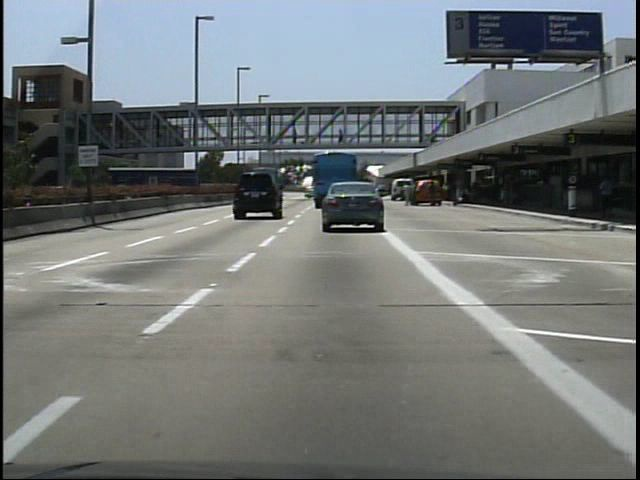person: (597, 170, 617, 217), (428, 178, 444, 211), (398, 180, 416, 209), (335, 127, 349, 152), (290, 124, 303, 145)
